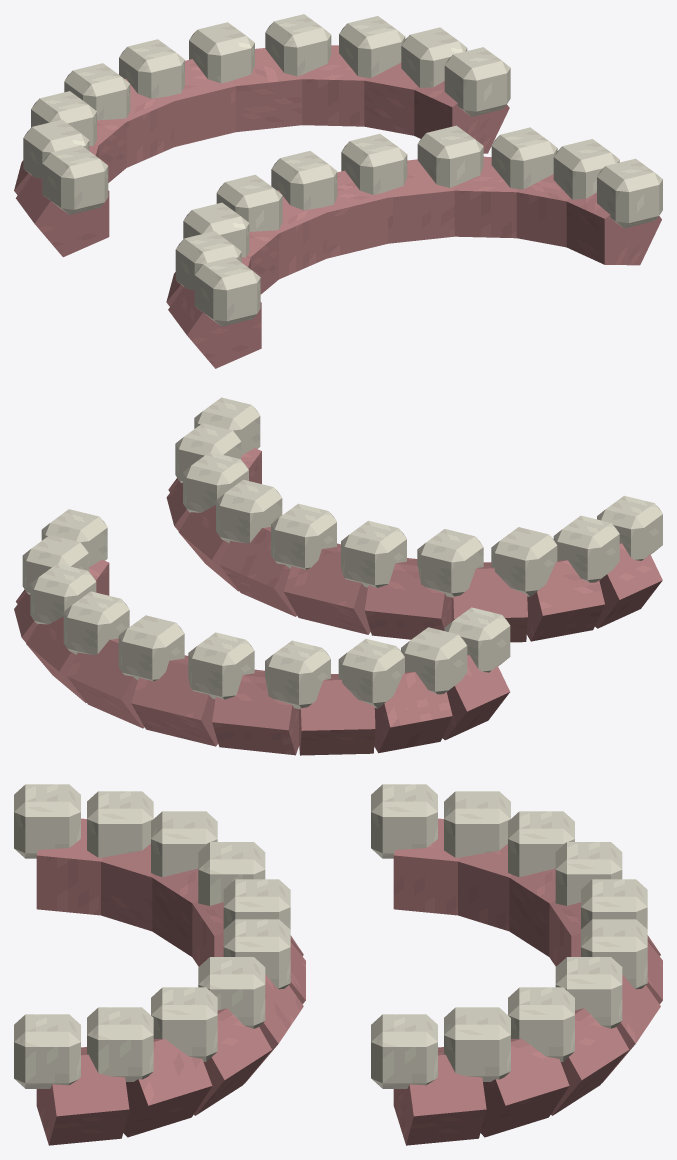
The model's file is dentures.glb.
The picture shows the model from 3 angles, top to bottom: view 1: azimuth 30°, elevation 25°; view 2: azimuth 150°, elevation 25°; view 3: azimuth 270°, elevation 25°; orthographic projection. The views are drawn at different scales.
Parts seen in each view (by area): view 1: block_denture tooth (×20), block_gum arc 5 (×2), block_gum arc 4 (×2), block_gum arc 6 (×2), block_gum arc 8 (×2), block_gum arc 0 (×2), block_gum arc 7 (×2), block_gum arc 3 (×2), block_gum arc 2 (×2); view 2: block_denture tooth (×20), block_gum arc 3 (×2), block_gum arc 4 (×2), block_gum arc 1 (×2), block_gum arc 2 (×2), block_gum arc 5 (×2), block_gum arc 0 (×2), block_gum arc 6 (×2), block_gum arc 7 (×2), block_gum arc 8 (×2); view 3: block_denture tooth (×20), block_gum arc 8 (×2), block_gum arc 7 (×2), block_gum arc 0 (×2), block_gum arc 6 (×2), block_gum arc 1 (×2), block_gum arc 2 (×2), block_gum arc 5 (×2), block_gum arc 3 (×2), block_gum arc 4 (×2).
Boxes of the visible parts, x1,y1,x2,y2 form: block_denture tooth (×20): [23, 14, 662, 326]; block_gum arc 5 (×2): [233, 48, 454, 243]; block_gum arc 4 (×2): [169, 59, 387, 258]; block_gum arc 6 (×2): [301, 45, 517, 238]; block_gum arc 8 (×2): [414, 81, 661, 265]; block_gum arc 0 (×2): [16, 175, 261, 368]; block_gum arc 7 (×2): [364, 63, 569, 247]; block_gum arc 3 (×2): [122, 79, 326, 279]; block_gum arc 2 (×2): [95, 119, 278, 294]; block_denture tooth (×20): [22, 397, 662, 709]; block_gum arc 3 (×2): [212, 558, 451, 755]; block_gum arc 4 (×2): [131, 543, 370, 746]; block_gum arc 1 (×2): [374, 560, 604, 753]; block_gum arc 2 (×2): [299, 562, 527, 755]; block_gum arc 5 (×2): [67, 527, 296, 728]; block_gum arc 0 (×2): [442, 543, 662, 740]; block_gum arc 6 (×2): [26, 505, 238, 702]; block_gum arc 7 (×2): [14, 481, 189, 642]; block_gum arc 8 (×2): [16, 448, 261, 603]; block_denture tooth (×20): [14, 784, 647, 1088]; block_gum arc 8 (×2): [36, 1047, 486, 1145]; block_gum arc 7 (×2): [123, 1038, 569, 1137]; block_gum arc 0 (×2): [36, 818, 460, 915]; block_gum arc 6 (×2): [193, 1008, 629, 1115]; block_gum arc 1 (×2): [101, 843, 511, 931]; block_gum arc 2 (×2): [152, 868, 555, 956]; block_gum arc 5 (×2): [245, 974, 660, 1082]; block_gum arc 3 (×2): [192, 900, 660, 966]; block_gum arc 4 (×2): [214, 932, 662, 1004].
Bounding box in the file's own units: 0.0319 × 0.00636 × 0.0321.
1 material, 1 textured.
